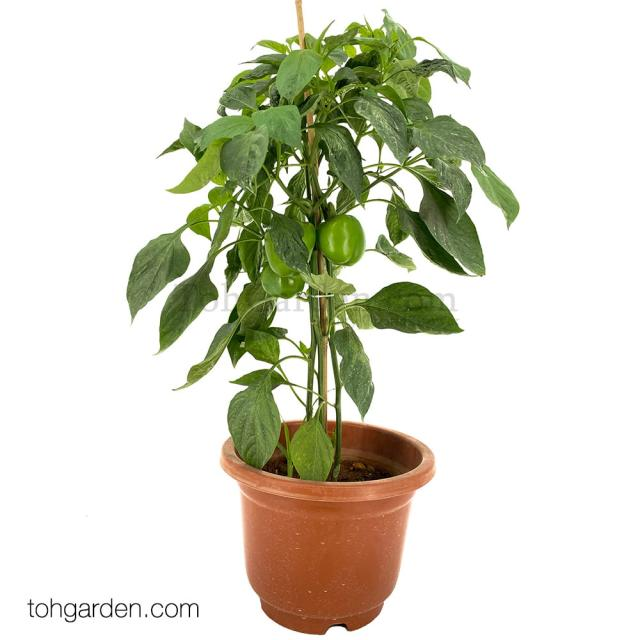plant: (142, 8, 519, 639)
